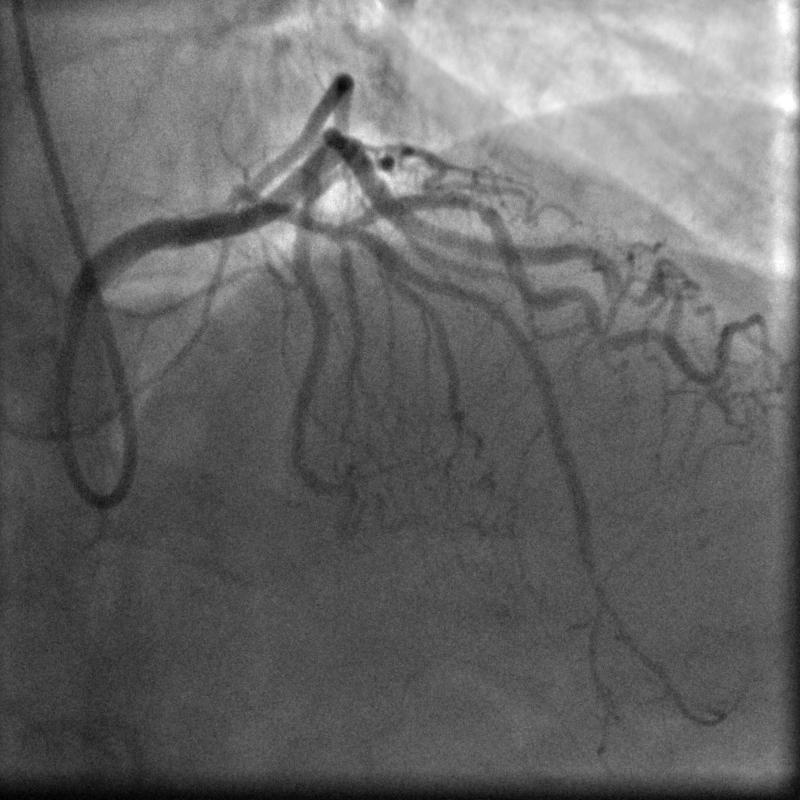Stenosis: (454, 188, 496, 225)
